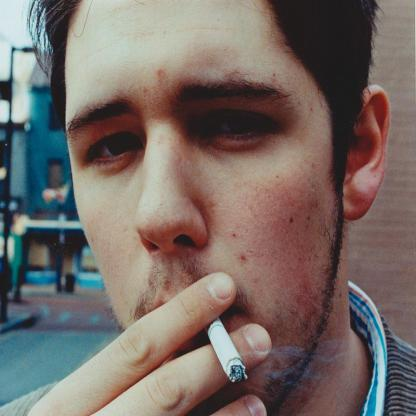smoking: (202, 306, 247, 382)
